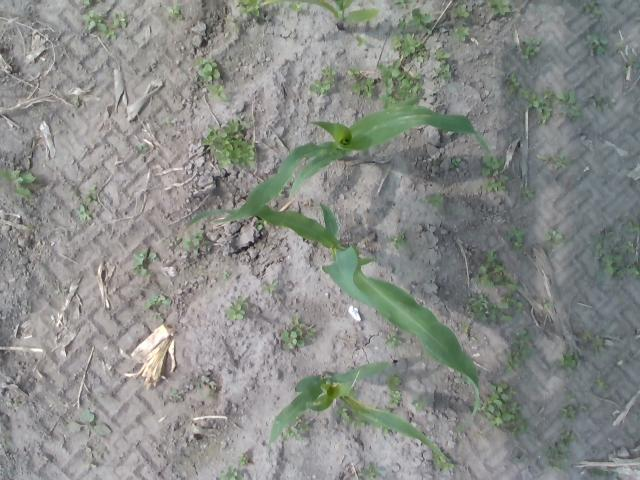Maize: (187, 202, 480, 434), (211, 104, 494, 222), (266, 360, 452, 461), (240, 0, 380, 28), (512, 454, 528, 464)
Weeds: (475, 381, 529, 438), (200, 114, 256, 168), (518, 86, 582, 124), (377, 58, 423, 107), (472, 250, 520, 292), (460, 294, 524, 322), (502, 326, 534, 374), (544, 428, 576, 474), (1, 164, 36, 201), (66, 409, 112, 436), (390, 33, 432, 61), (280, 317, 316, 349), (480, 154, 509, 192), (82, 8, 116, 40), (601, 252, 640, 278), (397, 8, 432, 34), (130, 248, 157, 280), (282, 416, 311, 444), (309, 66, 336, 96), (334, 405, 366, 428), (192, 57, 220, 83), (584, 30, 611, 56), (384, 372, 403, 408), (582, 330, 606, 358), (557, 348, 583, 373), (70, 185, 99, 207), (520, 36, 542, 64), (535, 152, 571, 169), (433, 48, 452, 80), (592, 229, 614, 256), (432, 448, 456, 472), (544, 227, 567, 252), (350, 76, 375, 98), (226, 296, 248, 320), (182, 230, 208, 249), (506, 226, 526, 250), (358, 461, 383, 480), (144, 294, 173, 310), (233, 0, 260, 16), (216, 465, 244, 480), (590, 95, 614, 112), (207, 82, 228, 100), (82, 442, 96, 469), (411, 394, 430, 413), (424, 191, 444, 209), (560, 404, 578, 423), (384, 330, 403, 348), (165, 4, 184, 22), (75, 204, 94, 222), (388, 233, 408, 249), (520, 187, 536, 206), (453, 23, 469, 42), (490, 0, 510, 15), (260, 280, 279, 295), (112, 12, 128, 28), (452, 6, 469, 20), (227, 14, 240, 32), (506, 73, 518, 92), (595, 376, 609, 392), (624, 55, 636, 73), (625, 218, 640, 232), (168, 388, 184, 401), (584, 0, 600, 13), (590, 467, 607, 478), (289, 0, 302, 13), (354, 35, 368, 46), (256, 218, 268, 230), (449, 157, 461, 169), (620, 242, 634, 252), (162, 116, 176, 126), (394, 0, 411, 8), (238, 454, 248, 467), (136, 144, 148, 154), (348, 66, 360, 76), (168, 236, 180, 246), (542, 298, 552, 309), (153, 312, 164, 322), (54, 282, 62, 295), (205, 387, 216, 396), (381, 426, 392, 434), (565, 391, 575, 399), (12, 400, 22, 408), (615, 40, 624, 48), (578, 404, 586, 412), (196, 380, 202, 390), (26, 224, 34, 231), (618, 358, 626, 365), (223, 270, 229, 279), (462, 324, 468, 333), (84, 0, 90, 5)
